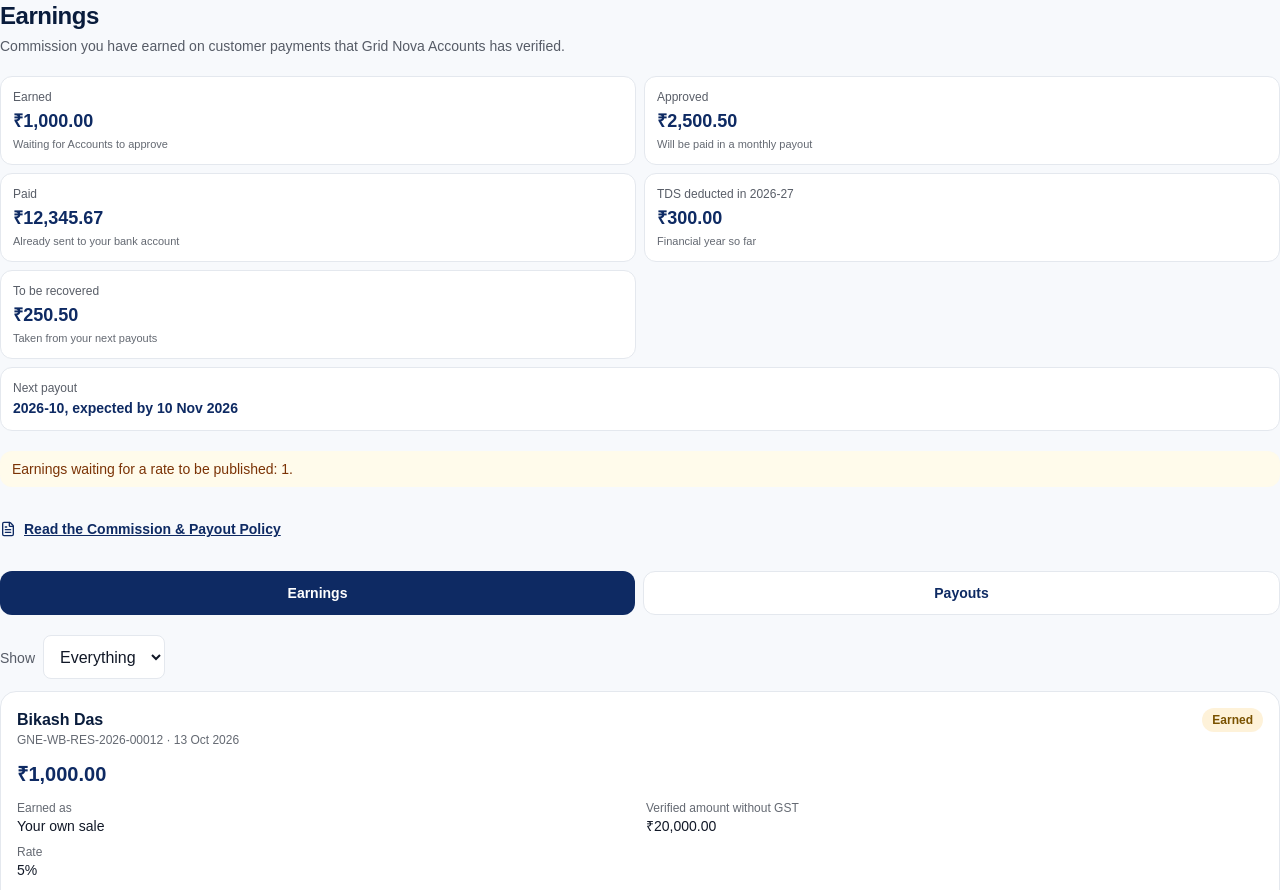
Payouts (E2) › has an honest empty state
Click the button "Payouts" at (962, 593), box [643,571,1279,615]
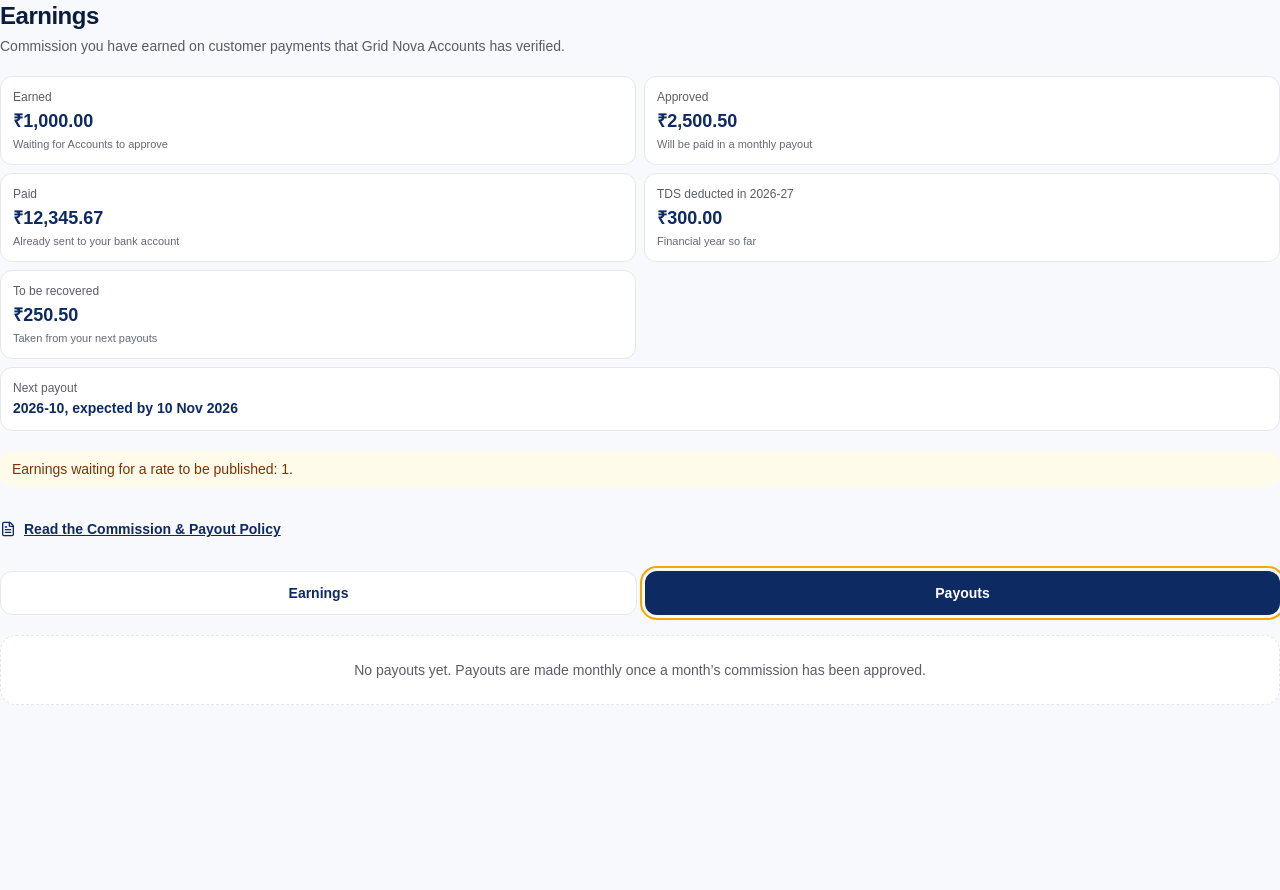
Expected: the text with test id "payouts-empty" is shown, [0,635,1279,705]
